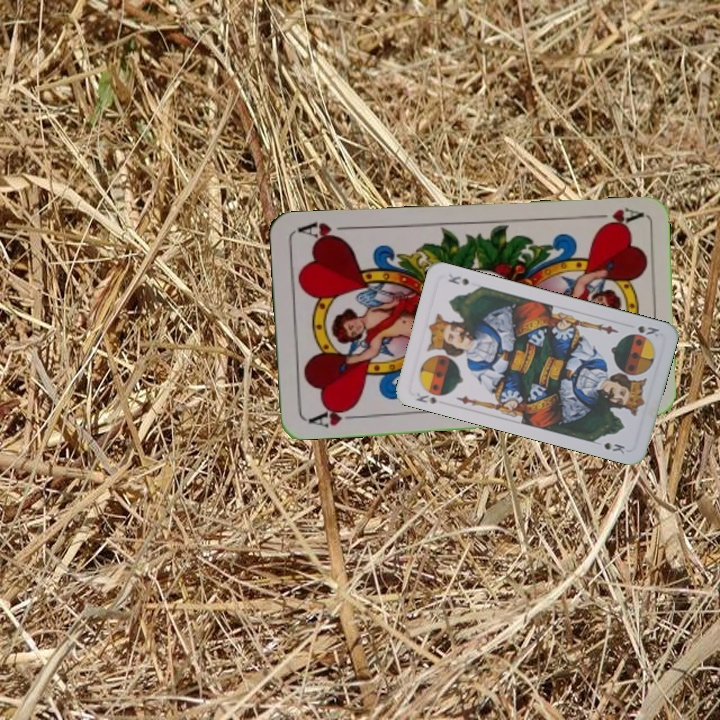HA: (303, 402, 362, 430), (584, 204, 643, 232)
SK: (627, 321, 662, 341), (412, 388, 440, 407)
